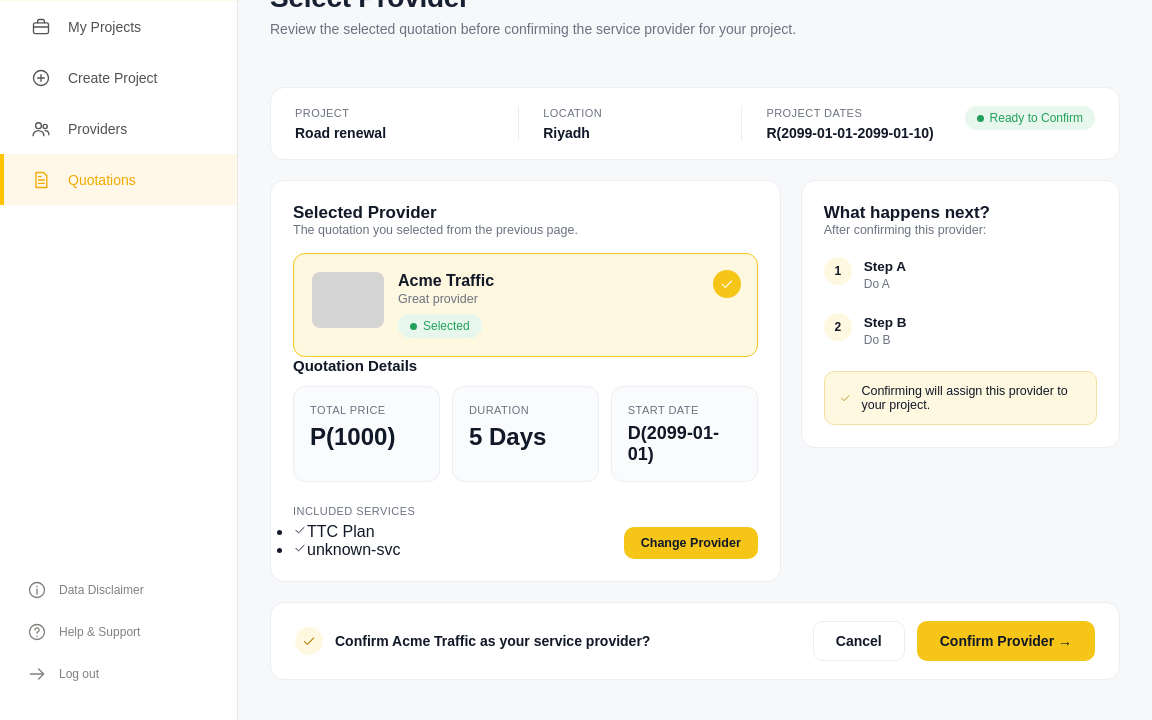
Test: SelectProviderPage › التأكيد ينجح ويروح للمتابعة (مع Confirming…)
The width and height of the screenshot is (1152, 720).
Later steps or results of the test are not shown.
(page scrolled)
expect the heading "Acme Traffic" is shown: met, box [398, 272, 494, 290]
Click the button "Confirm Provider →".
click(1006, 641)  # box [917, 621, 1095, 661]
(page scrolled)
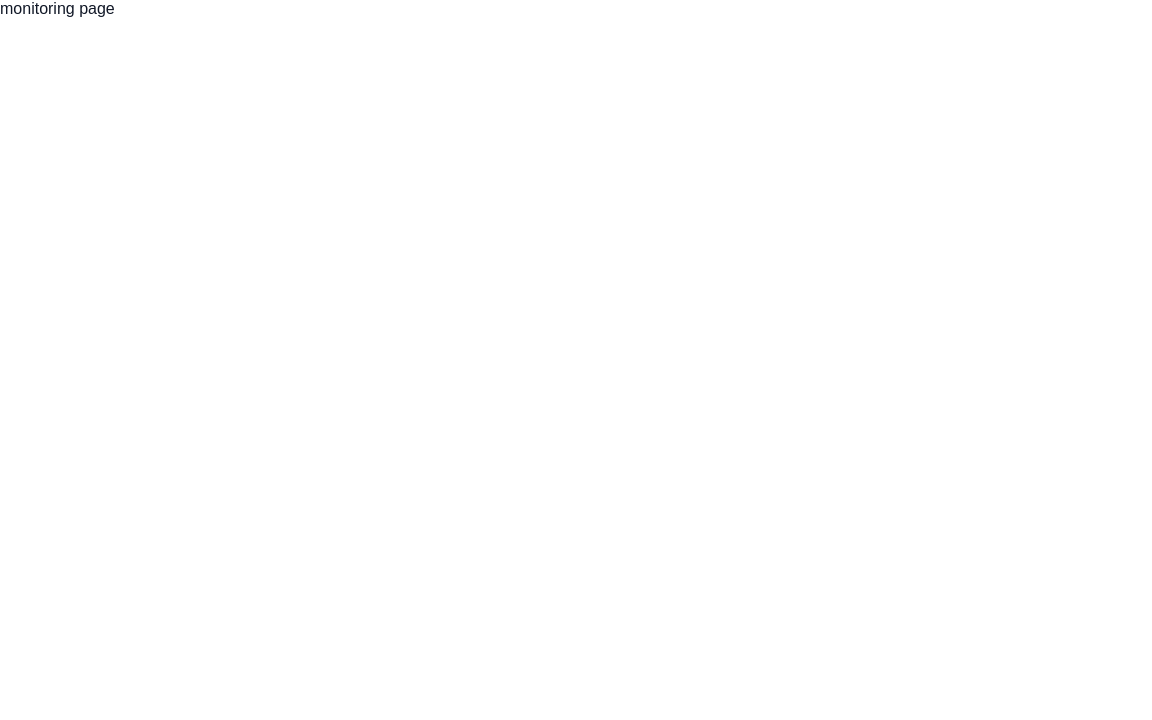
expect the text "monitoring page" is shown: met, box [0, 0, 115, 17]
